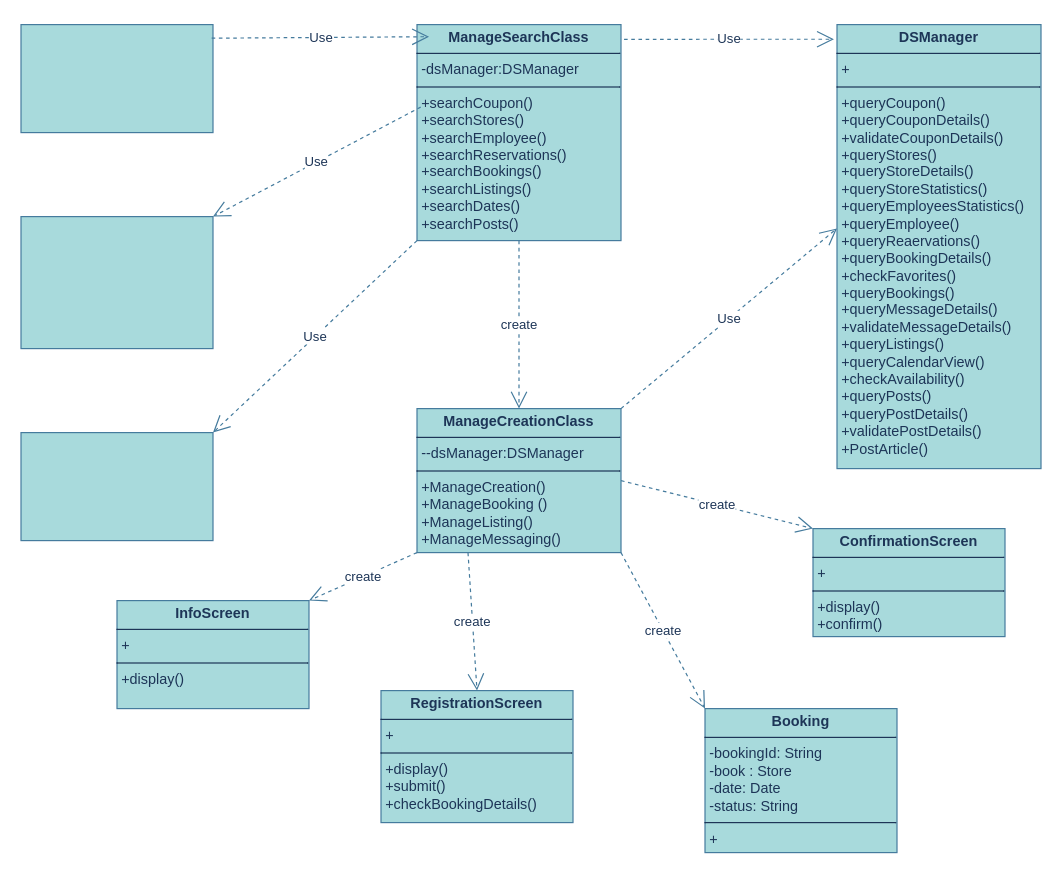
Image size: 1062x874. Some labels were removed from this diagram. The shapes that lost their labels are listed below. From the top down, each one's centre as x and y in pixels, then its label:
At point 116,78: "DashboardScreen + +display() +startSearch()".
At point 116,282: "CalendarViewScreen -selectedDate: Date +showResults() +selectDate() +display()".
At point 116,486: "BookingsScreen + + display() +selectBooking()".
